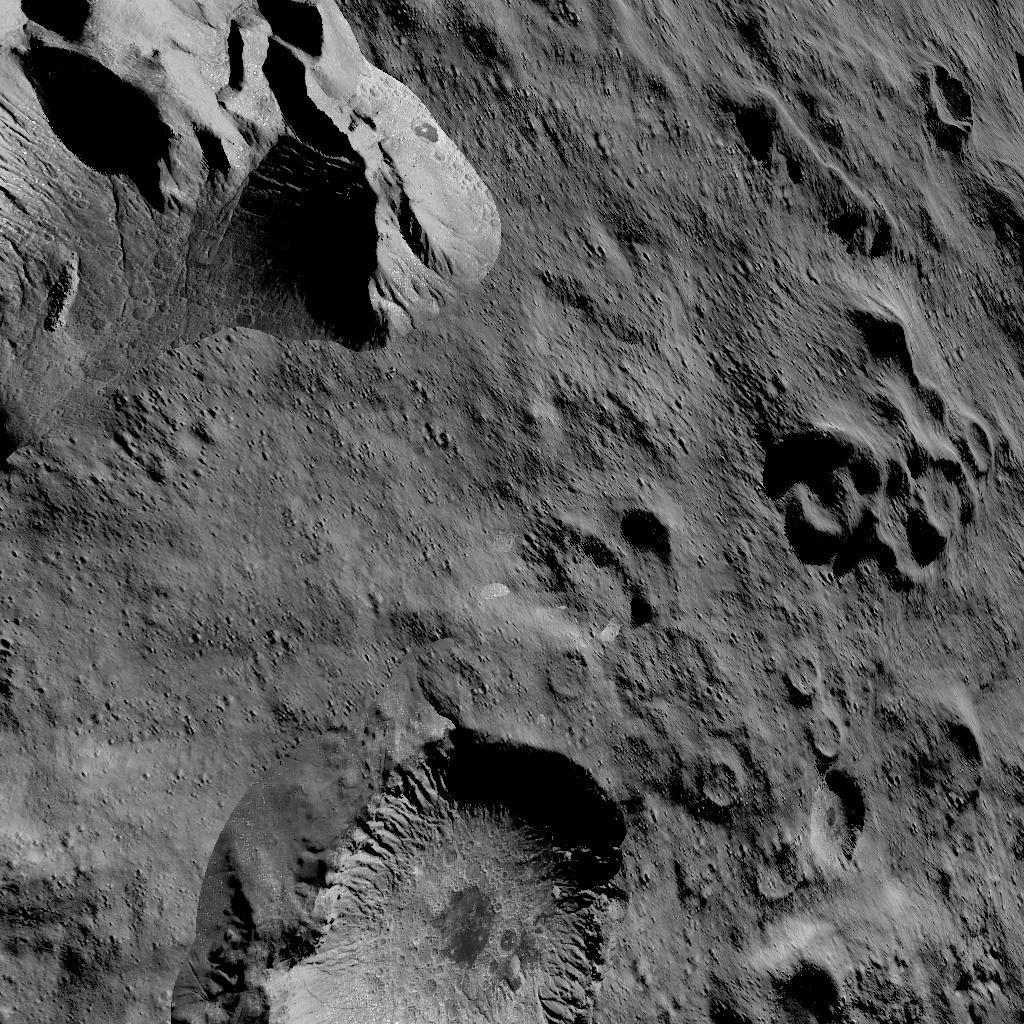Boulders: (0, 0, 525, 489)
Crater: (211, 720, 660, 1024), (776, 401, 1010, 601), (541, 511, 695, 628), (794, 770, 885, 882), (761, 962, 895, 1024), (788, 652, 863, 758), (918, 52, 987, 146), (923, 718, 994, 809), (708, 760, 768, 817), (540, 648, 599, 702)
Plan surface: (0, 500, 514, 706), (539, 0, 719, 504), (0, 714, 197, 1024)
